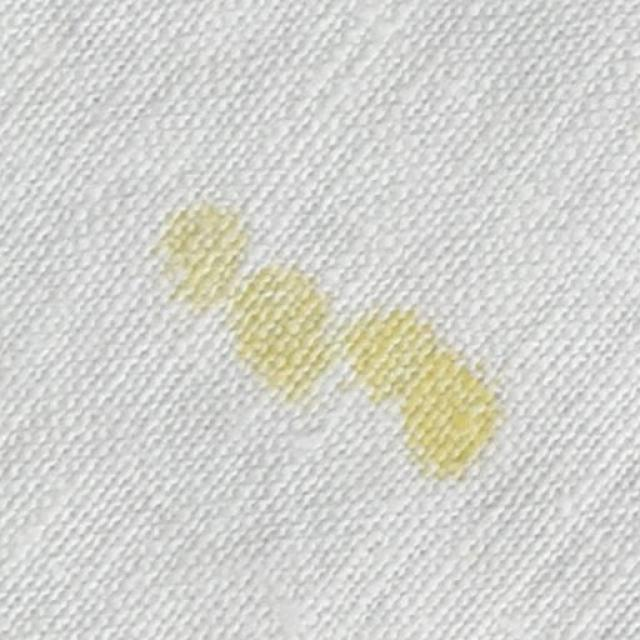Stain: (150, 212, 331, 391), (350, 295, 504, 491)
